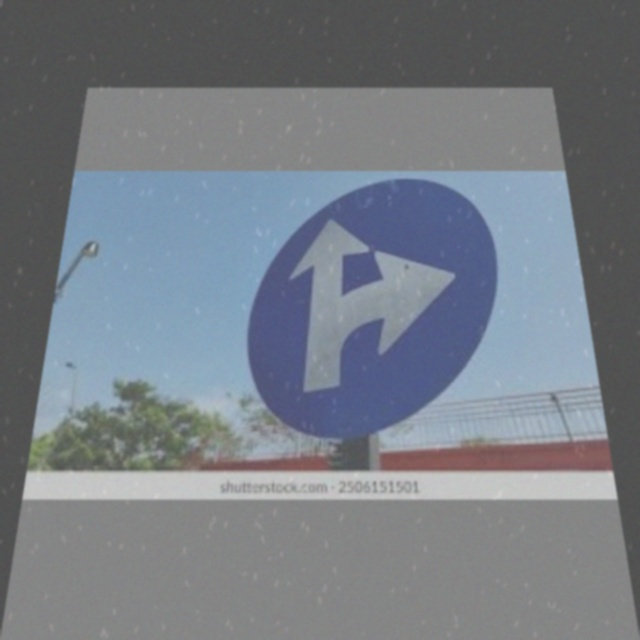Compulsory_Ahead_or_Turn_Right: (248, 187, 507, 444)
